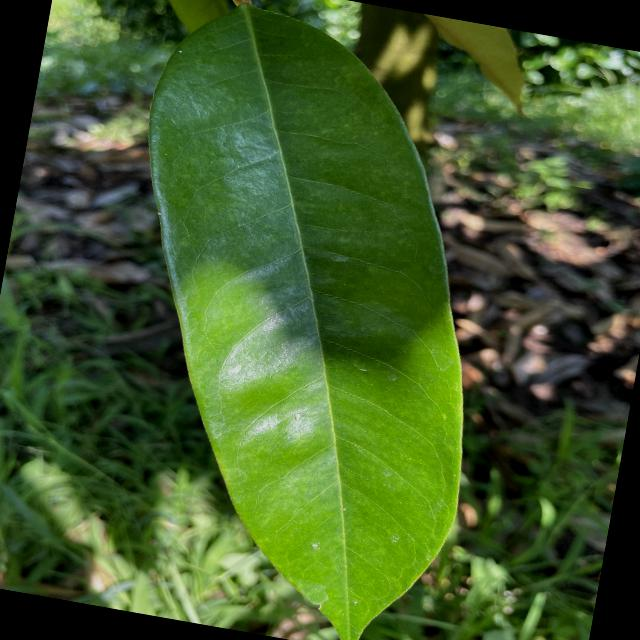No Disease: (54, 0, 547, 639)
